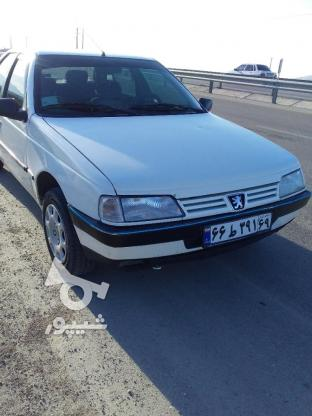car: (201, 211, 271, 251)
